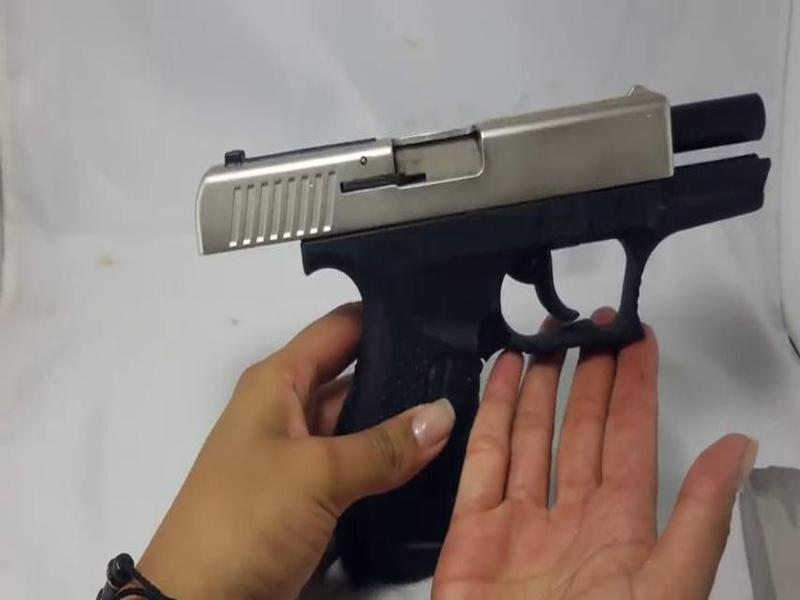Pistola: (195, 94, 778, 575)
